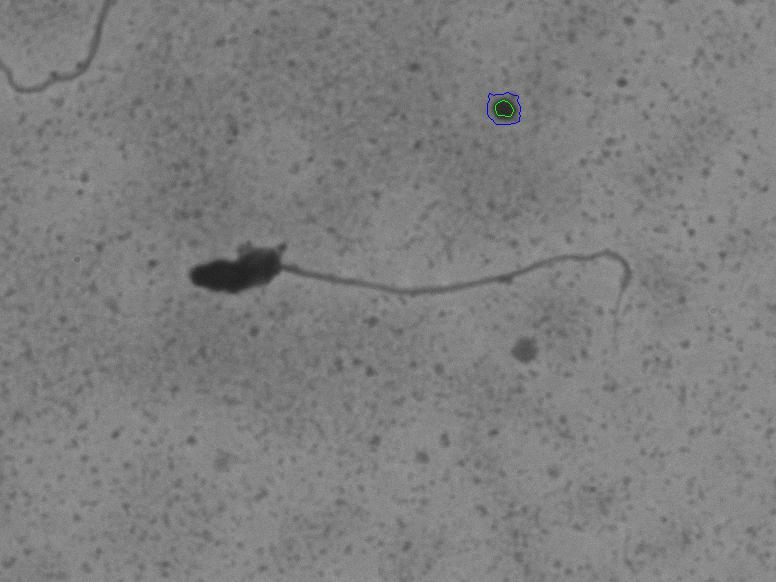Abnormal: (132, 160, 664, 378)
